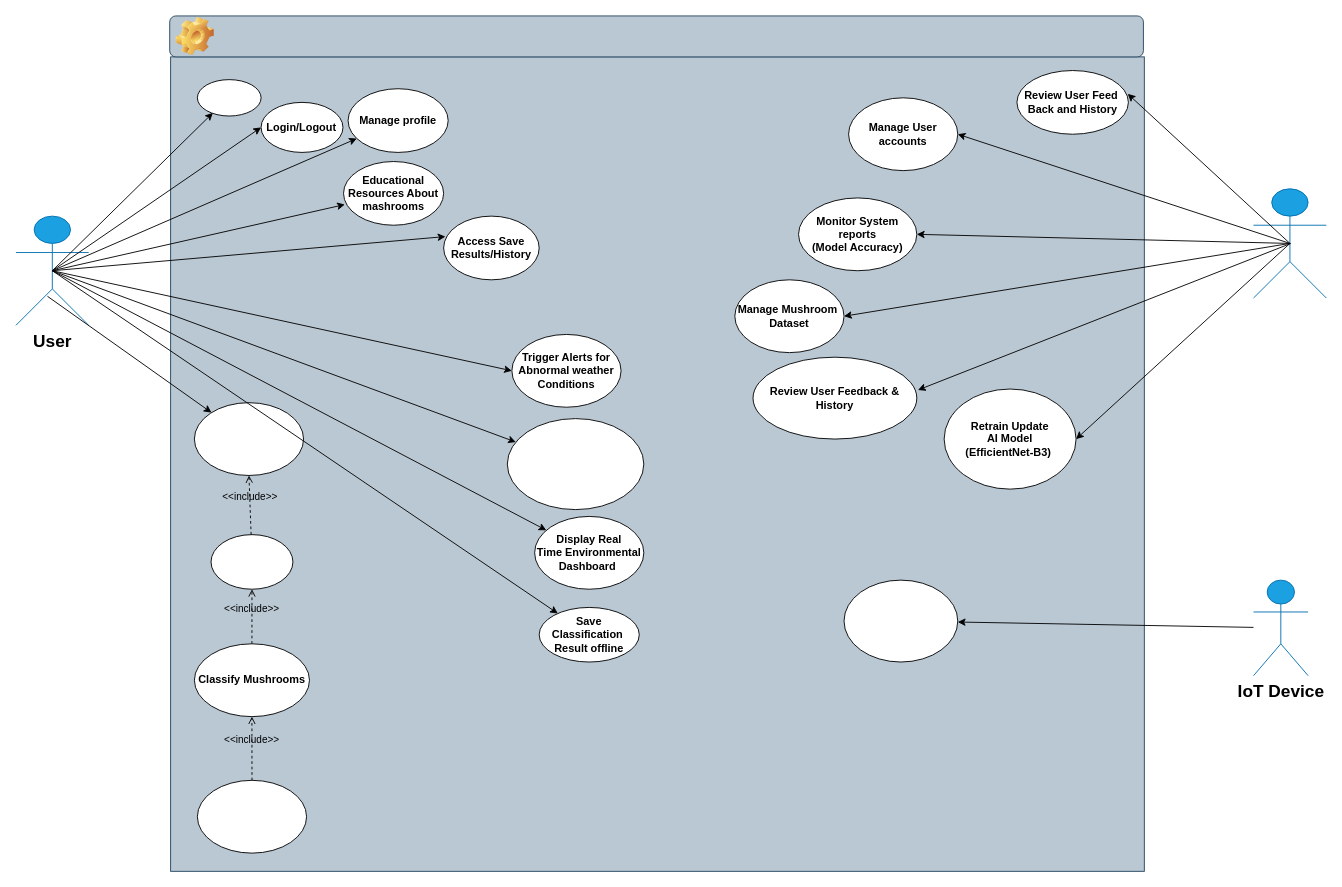
Some shapes in this 1342 by 887 pixel diagram are drawn without their labels. The shapes that lost their labels are listed below. From the top down, each one's centre as x and y in pixels, then its label:
(656,36): Use case Diagram
(228,97): Sign up
(1289,243): Admin
(248,438): Capture / Upload Image
(575,464): Get Suggestions for Cultivation Improvements
(251,561): Preprocess Image
(900,620): Recive Real-Time Sensor Data (Temp, Humidity, Light)
(251,816): Display Classification Result
